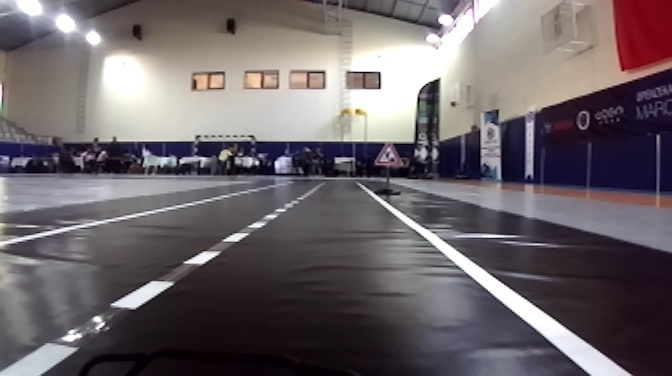yol_yapimi: (372, 141, 403, 168)
